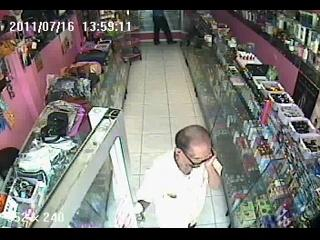Normal: (136, 124, 226, 229), (152, 10, 178, 46)
